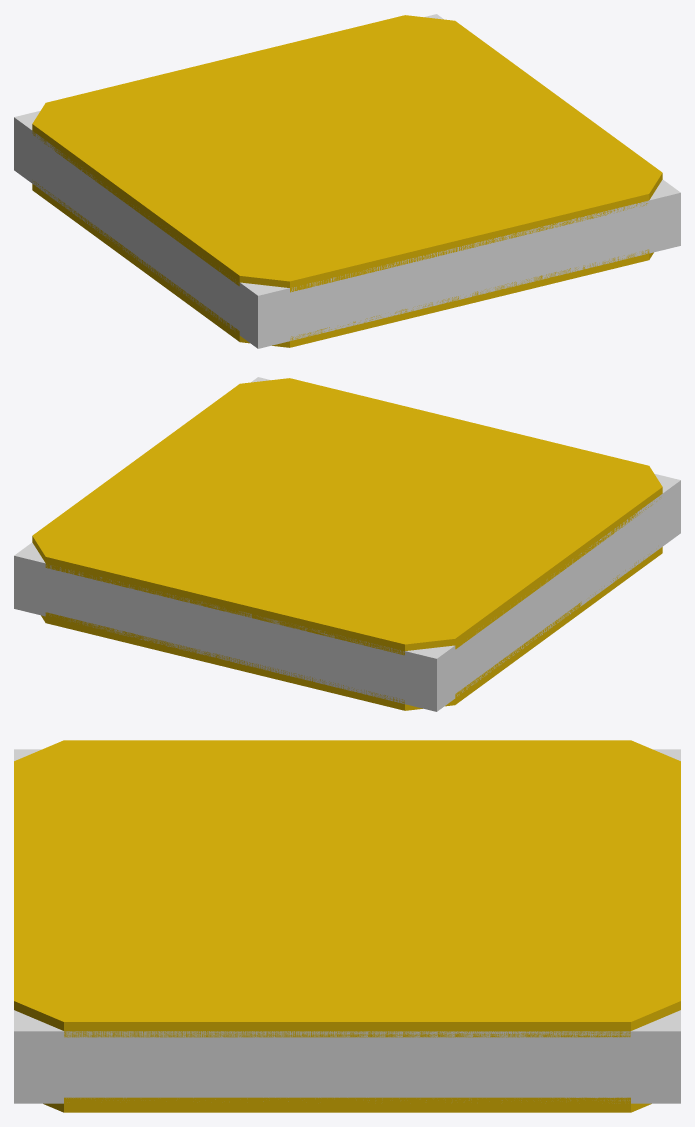
Rendered from moveGround.gltf.
3 renders of one model, top to bottom at view 1: azimuth 30°, elevation 25°; view 2: azimuth 150°, elevation 25°; view 3: azimuth 270°, elevation 25°, orthographic. The views are drawn at different scales.
Visible parts, largest first — view 1: 立方体.003, COL; view 2: 立方体.003, COL; view 3: 立方体.003, COL.
Boxes of the visible parts, x1,y1,x2,y2 form: 立方体.003: (32, 15, 662, 347); COL: (14, 14, 680, 348); 立方体.003: (32, 378, 662, 710); COL: (14, 377, 680, 711); 立方体.003: (14, 740, 680, 1112); COL: (14, 749, 680, 1103).
Size of the model in its own units: 5 by 0.75 by 5.
